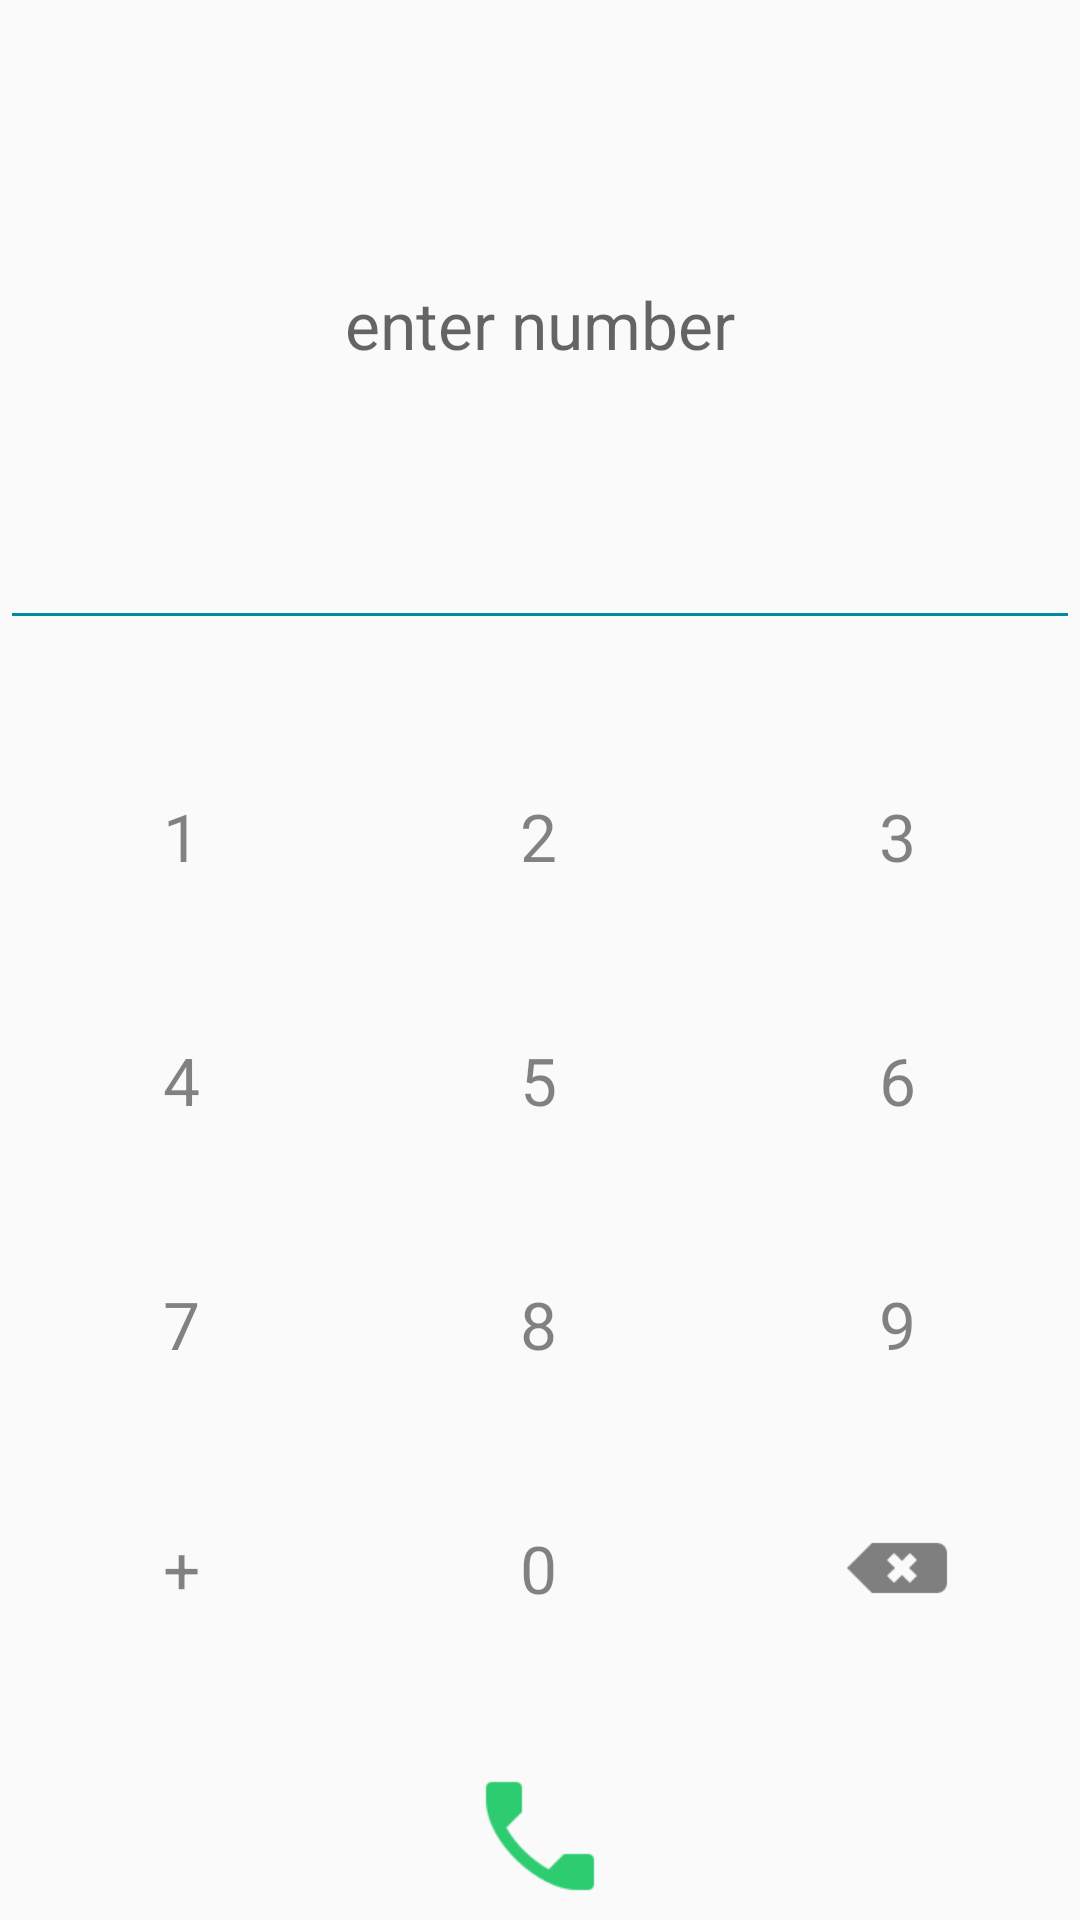

Icon bounding boxes for this 1080px x 1920px phone screenshot, format [x1, y1, x2, y2]:
clear symbol: [847, 1543, 947, 1593]
phone: [485, 1781, 595, 1891]
